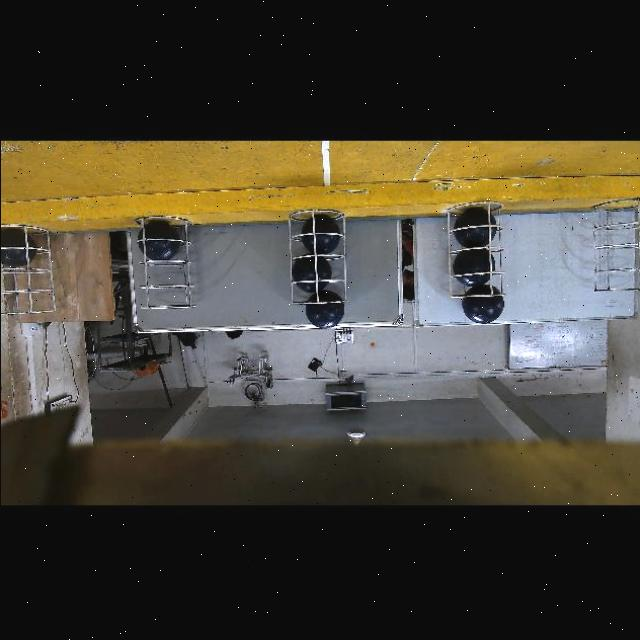P: (453, 206, 495, 246), (463, 283, 503, 323), (453, 248, 494, 286), (138, 221, 178, 258), (301, 214, 339, 252), (291, 256, 330, 292), (305, 290, 342, 327), (0, 228, 36, 266)
S: (282, 208, 346, 308), (133, 214, 193, 312), (444, 204, 504, 298), (0, 223, 56, 317), (592, 201, 640, 299)
